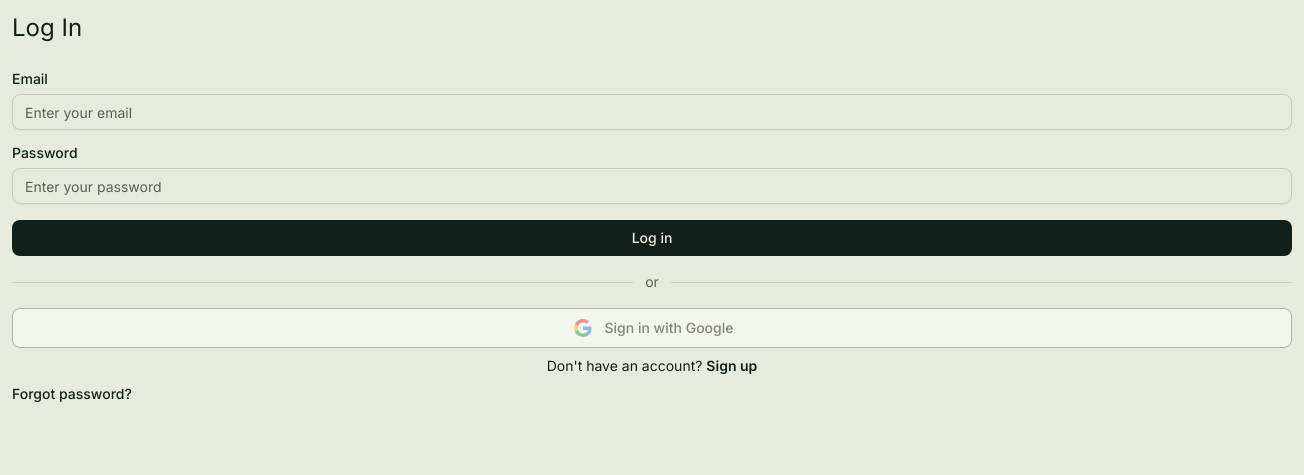
Test: LoginForm › validation › shows error for invalid email format
The width and height of the screenshot is (1304, 475).
Type "notanemail" into the field labelled "Email" at (652, 112), box [12, 94, 1292, 130]
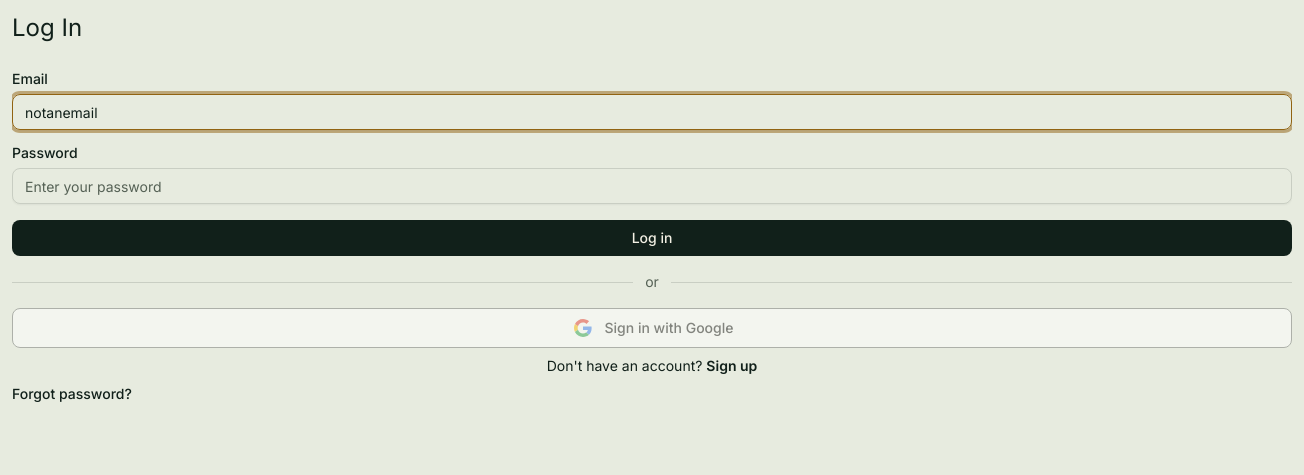
Click the button "Log in" at (652, 238), box [12, 220, 1292, 256]
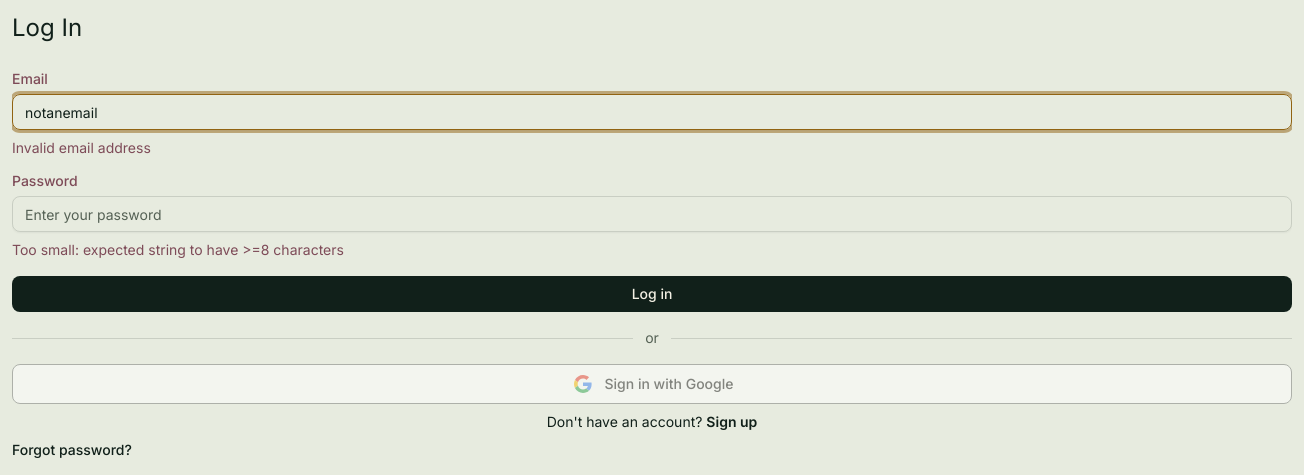
expect the text "Invalid email address" is shown: met, box [12, 139, 151, 156]
